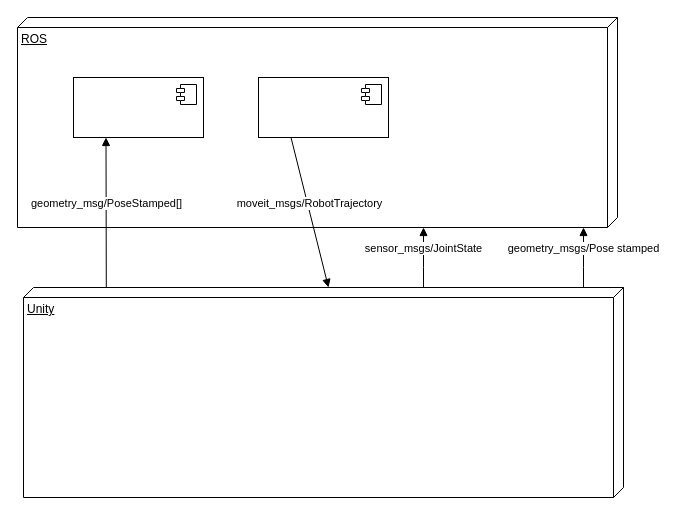
Some shapes in this 677 by 515 pixel diagram are drawn without their labels. Each missing label, with the centre of its shape:
"MoveIT Component" goes at (323,107).
"TF Node Component" goes at (138,107).
